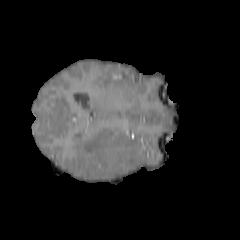glioma: (71, 127, 146, 179)
